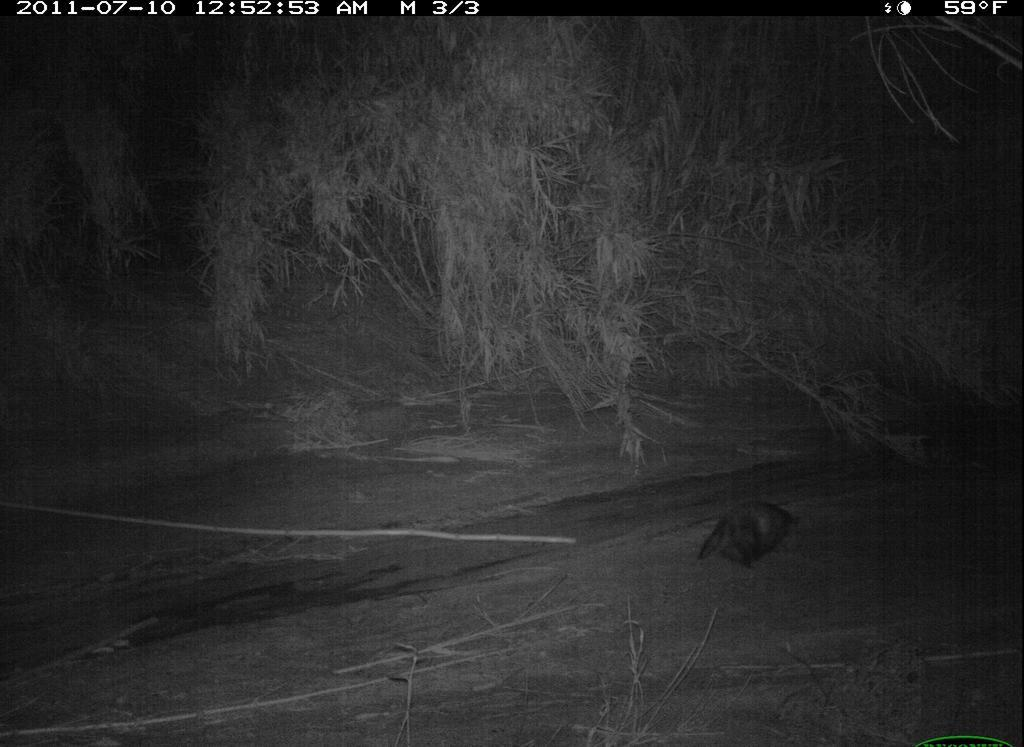opossum: (689, 489, 811, 585)
